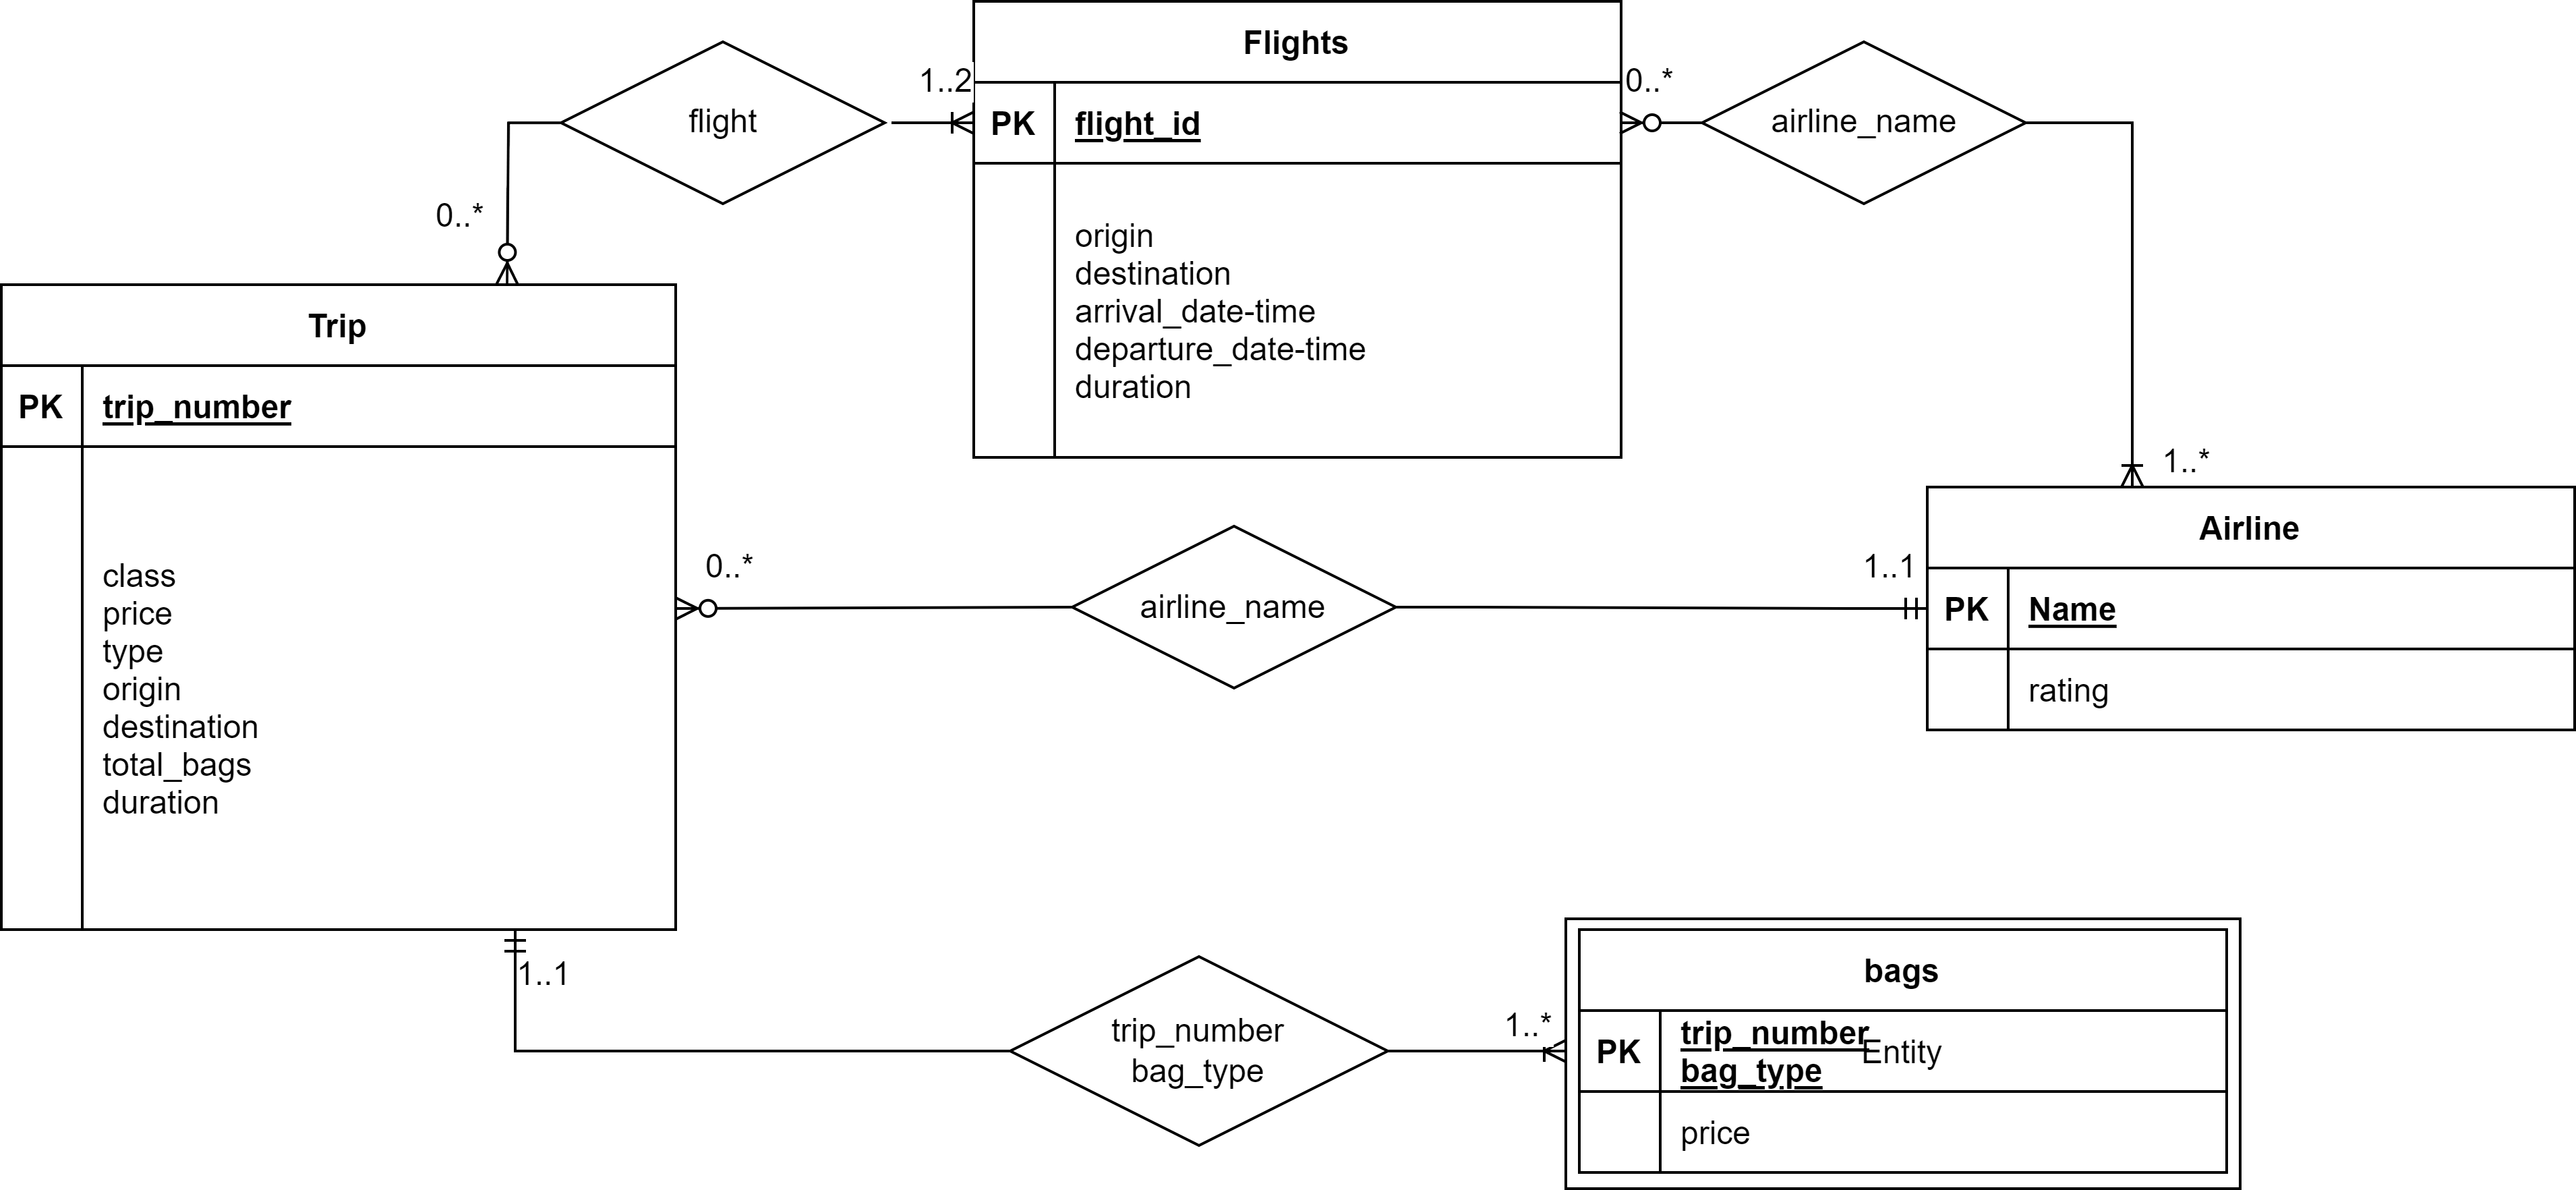entity: (2, 286, 678, 932), (976, 0, 1623, 460), (1924, 488, 2576, 728)
many: (1618, 105, 1704, 145), (672, 592, 769, 626), (892, 107, 973, 136), (1490, 1039, 1566, 1070), (498, 219, 529, 289), (2123, 426, 2147, 490)
one: (503, 929, 532, 1012), (1860, 597, 1929, 621)
rel: (1012, 953, 1385, 1151), (1704, 39, 2026, 205), (565, 41, 890, 202), (1071, 528, 1396, 687)
weak_entity: (1562, 922, 2241, 1190)
